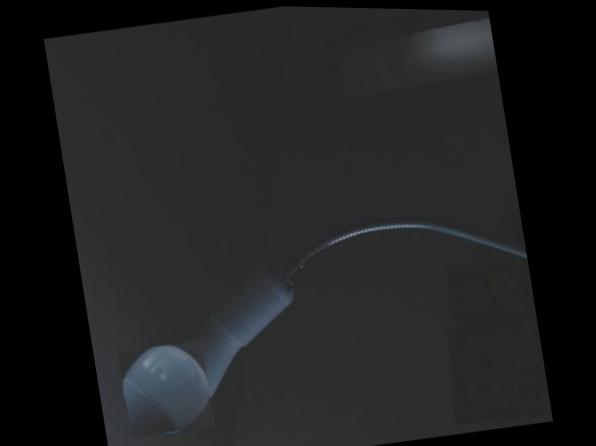Fan: (117, 337, 215, 437)
